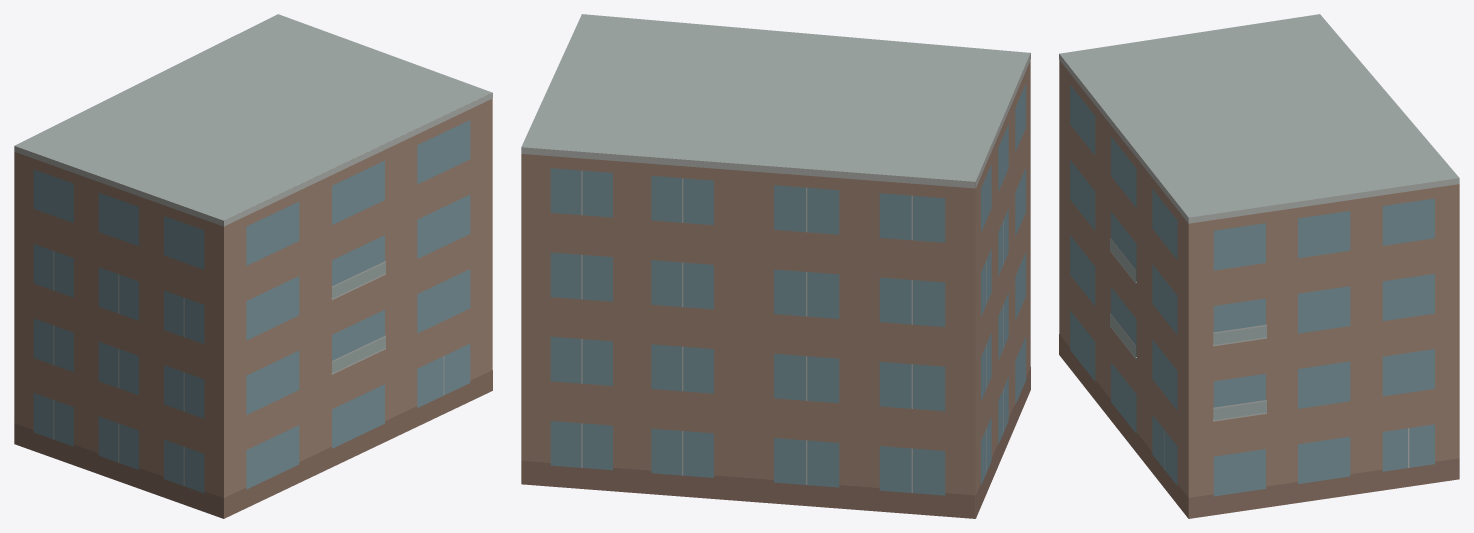
The model's file is survey-upis-32747405.glb.
The picture shows the model from 3 angles, left to right: view 1: azimuth 30°, elevation 25°; view 2: azimuth 150°, elevation 25°; view 3: azimuth 270°, elevation 25°; orthographic projection. The views are drawn at different scales.
Parts seen in each view (by area): view 1: survey-upis-32747405.tmp; view 2: survey-upis-32747405.tmp; view 3: survey-upis-32747405.tmp.
Boxes of the visible parts, <box> form: survey-upis-32747405.tmp: <box>14,14,492,518</box>; survey-upis-32747405.tmp: <box>521,14,1030,518</box>; survey-upis-32747405.tmp: <box>1059,14,1459,518</box>.
Bounding box in the file's own units: 18 × 12.4 × 14.96.
